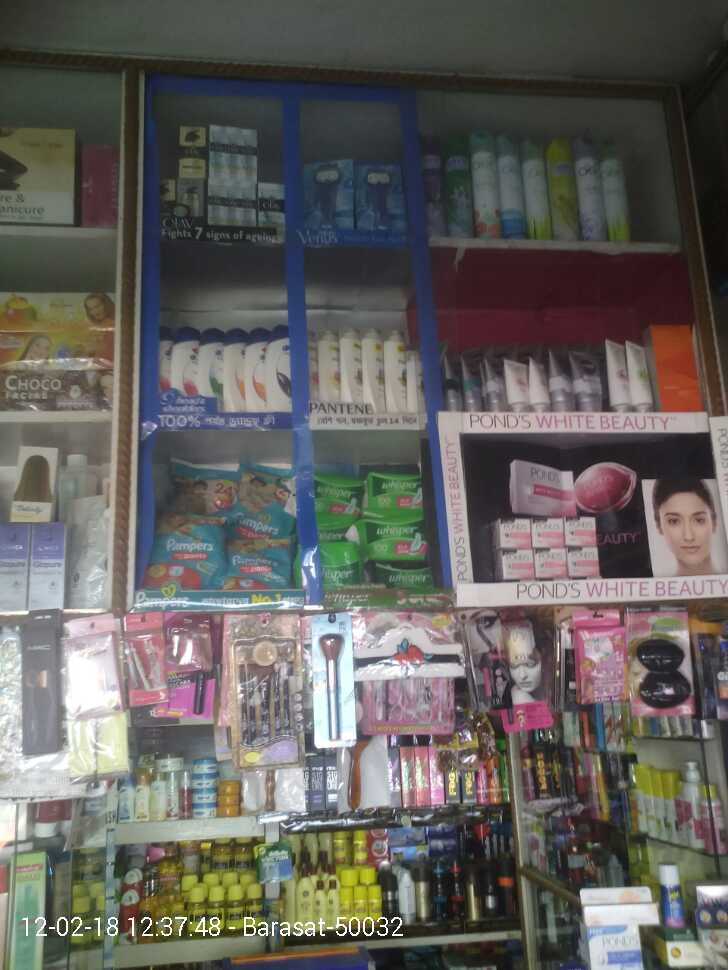gillete: (484, 826, 492, 859), (492, 824, 499, 859), (499, 824, 506, 857)
venus: (308, 163, 360, 229), (360, 162, 403, 229)
